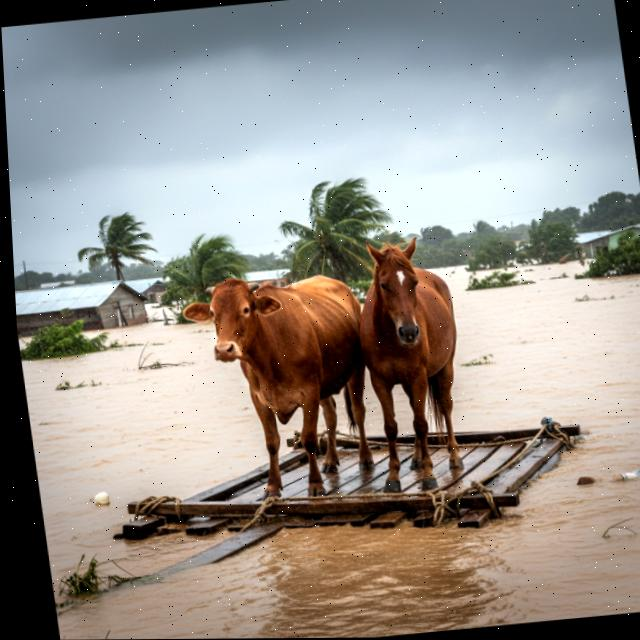cow: (169, 258, 390, 515)
horse: (344, 226, 487, 508)
